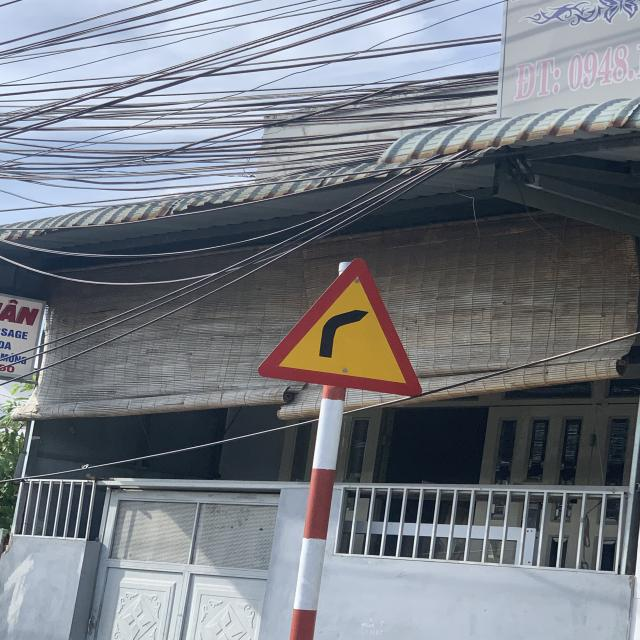Duong_Nguoi_Di_Bo_Cat_Ngang: (251, 256, 422, 399)
